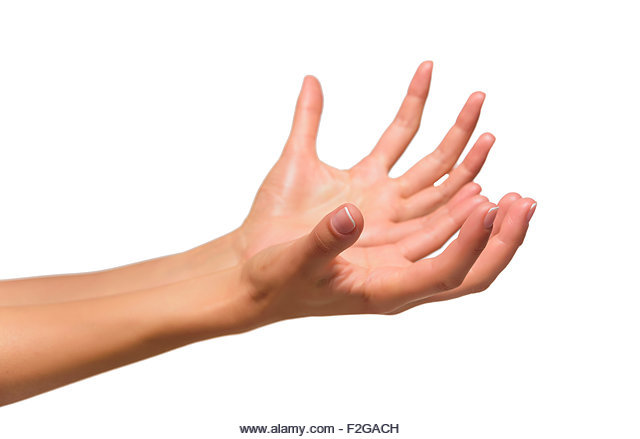hand: (207, 43, 551, 361)
